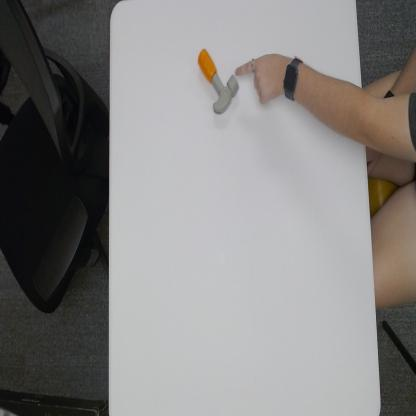Arm: (302, 62, 362, 144)
Hammer: (197, 47, 239, 117)
Hand: (235, 50, 284, 107)
